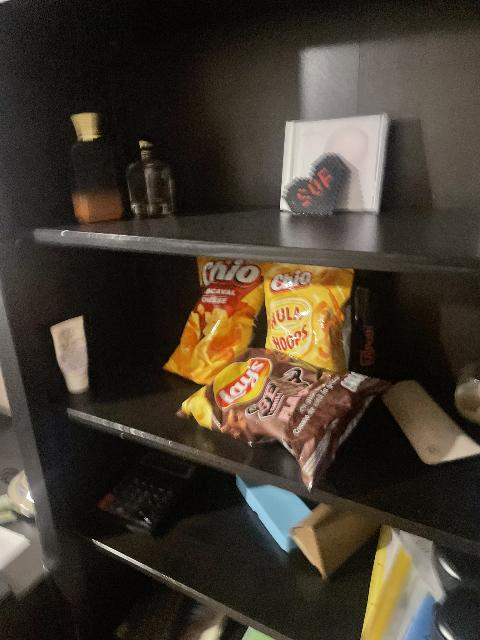Chio Cascaval 125g: (162, 260, 271, 386), (263, 264, 355, 373)
Lays Beef Grilled Ribs 125g: (183, 345, 390, 488)
